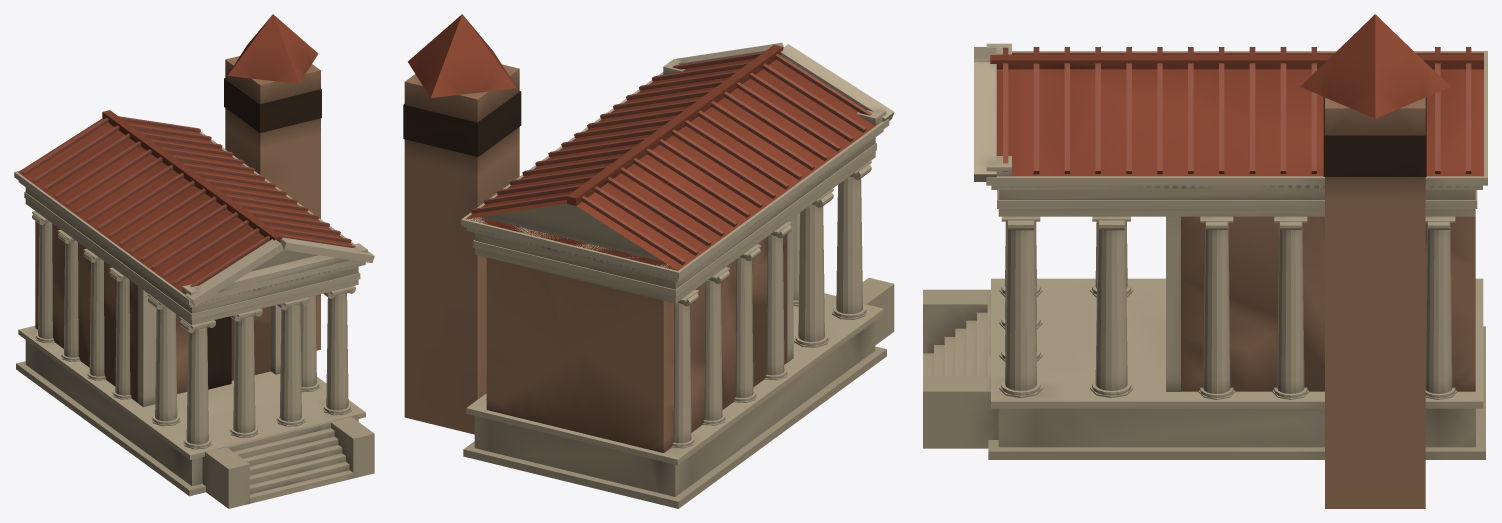
File: temple-of-portunus-church.glb
The picture shows the model from 3 angles, left to right: view 1: azimuth 30°, elevation 25°; view 2: azimuth 150°, elevation 25°; view 3: azimuth 270°, elevation 25°; orthographic projection. The views are drawn at different scales.
Parts seen in each view (by area): view 1: p2_church, p1_columns, p0_podium; view 2: p2_church, p1_columns, p0_podium; view 3: p2_church, p0_podium, p1_columns.
Boxes of the visible parts, x1,y1,x2,y2 form: p2_church: (14, 14, 374, 350); p1_columns: (32, 211, 355, 449); p0_podium: (16, 325, 374, 508); p2_church: (403, 14, 894, 434); p1_columns: (486, 161, 871, 452); p0_podium: (463, 277, 894, 508); p2_church: (974, 14, 1487, 508); p0_podium: (923, 278, 1485, 459); p1_columns: (999, 216, 1475, 399).
Bounding box in the file's own units: 17.49 × 20.81 × 22.48.
